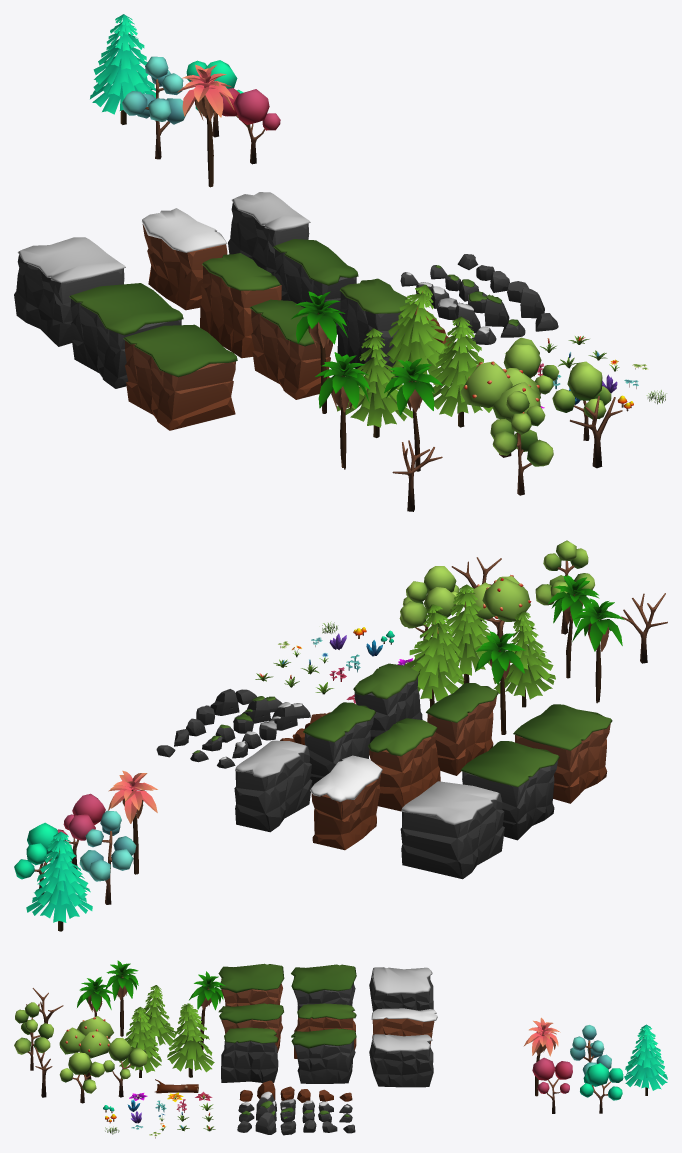
File: NaturePack1LP.glb
3 views of the same model, one above another, from view 1: azimuth 30°, elevation 25°; view 2: azimuth 150°, elevation 25°; view 3: azimuth 270°, elevation 25° (orthographic). The views are drawn at different scales.
Parts seen in each view (by area): view 1: ClifBg1.002, ClifBi1.001, ClifBg1.003, ClifGi1, ClifGg2, ClifBg1.001, ClifBi1, ClifBg1, ClifBg2, TreeVC, TreeV2, TreeV1 (+14 smaller); view 2: ClifBi1.001, ClifBg1.003, ClifBg1.002, ClifBi1, ClifGi1, ClifGg2, ClifBg1.001, ClifBg1, ClifBg2, TreeV2, TreeVC, TreeV3 (+13 smaller); view 3: ClifBi1, ClifBg1, ClifBg2, ClifBi1.001, ClifBg1.002, ClifBg1.003, TreeV2, TreeVC, ClifGi1, ClifBg1.001, TreeRF, ClifGg2 (+14 smaller).
Part boxes in pixels (left/top/right/bottom): ClifBg1.002: left=123, top=324, right=237, bottom=430; ClifBi1.001: left=14, top=237, right=125, bottom=346; ClifBg1.003: left=69, top=283, right=183, bottom=388; ClifGi1: left=141, top=208, right=227, bottom=310; ClifGg2: left=200, top=253, right=281, bottom=358; ClifBg1.001: left=250, top=299, right=332, bottom=399; ClifBi1: left=228, top=192, right=310, bottom=276; ClifBg1: left=273, top=239, right=358, bottom=334; ClifBg2: left=337, top=278, right=414, bottom=378; TreeVC: left=90, top=14, right=159, bottom=124; TreeV2: left=386, top=284, right=448, bottom=377; TreeV1: left=431, top=316, right=492, bottom=427; ClifBi1.001: left=400, top=781, right=504, bottom=879; ClifBg1.003: left=460, top=741, right=559, bottom=840; ClifBg1.002: left=513, top=704, right=612, bottom=803; ClifBi1: left=234, top=740, right=312, bottom=832; ClifGi1: left=310, top=755, right=382, bottom=850; ClifGg2: left=368, top=718, right=440, bottom=811; ClifBg1.001: left=426, top=683, right=498, bottom=775; ClifBg1: left=303, top=702, right=375, bottom=787; ClifBg2: left=353, top=663, right=422, bottom=742; TreeV2: left=404, top=604, right=464, bottom=707; TreeVC: left=26, top=831, right=92, bottom=931; TreeV3: left=493, top=611, right=555, bottom=707; ClifBi1: left=369, top=1034, right=433, bottom=1087; ClifBg1: left=291, top=1028, right=356, bottom=1083; ClifBg2: left=221, top=1027, right=278, bottom=1082; ClifBi1.001: left=369, top=967, right=433, bottom=1011; ClifBg1.002: left=218, top=963, right=284, bottom=1006; ClifBg1.003: left=291, top=964, right=356, bottom=1016; TreeV2: left=167, top=1003, right=214, bottom=1077; TreeVC: left=624, top=1024, right=667, bottom=1095; ClifGi1: left=371, top=1008, right=437, bottom=1044; ClifBg1.001: left=218, top=1003, right=283, bottom=1052; TreeRF: left=59, top=1016, right=113, bottom=1079; ClifGg2: left=294, top=1003, right=356, bottom=1058.
Size of the model in its own units: 43.91 by 11.57 by 90.75.
1 material, 1 textured.
